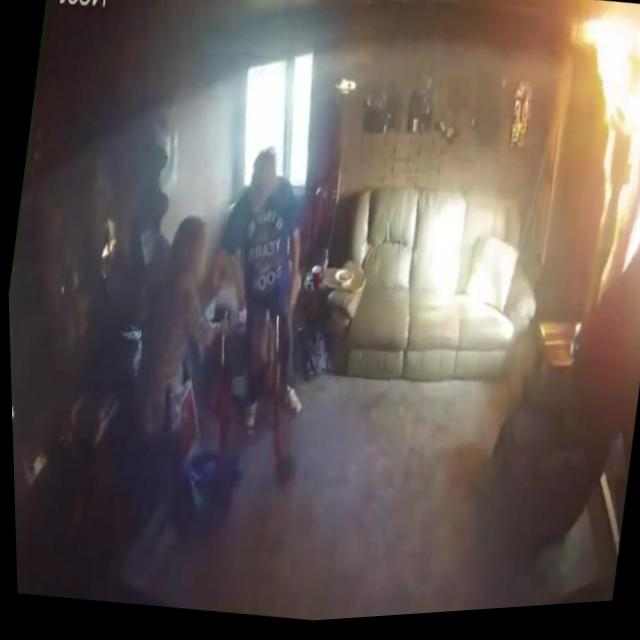fire: (534, 11, 640, 326)
